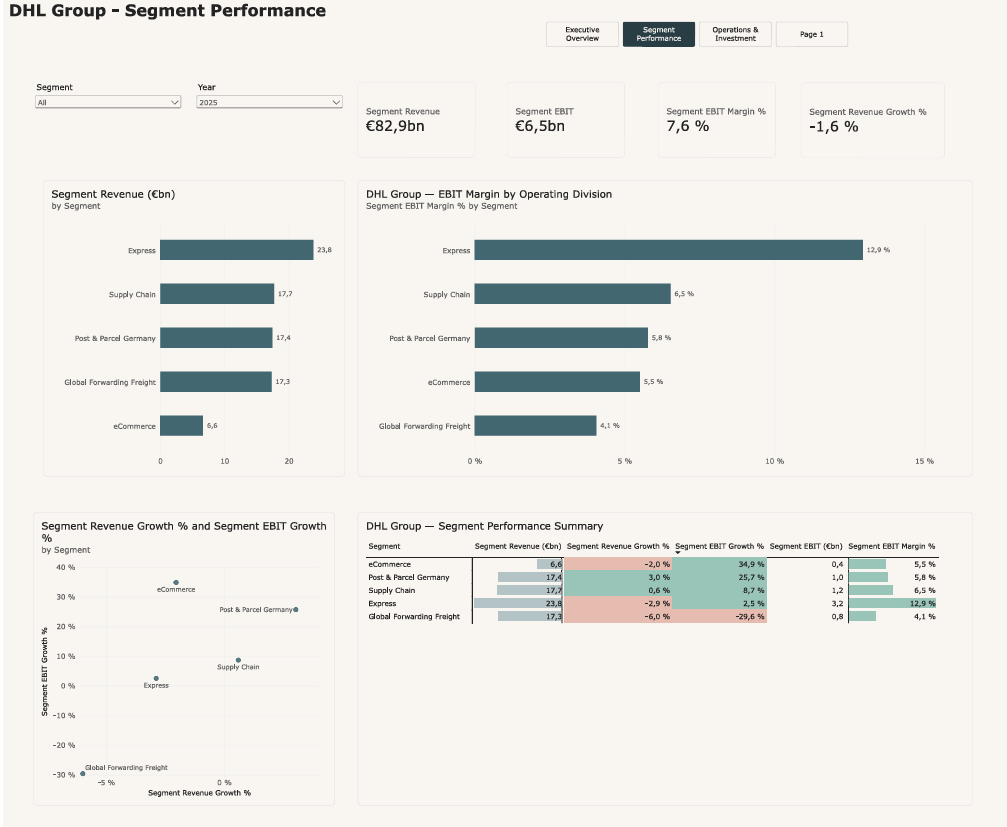

The page's visual inventory and layout, read from the dashboard file:
{"tool":"powerbi","page":{"name":"Segment Performance","canvas":[2000,1650],"ordinal":1},"visuals":[{"type":"textbox","box":[10,0,810,55],"z":0},{"type":"slicer","title":"Operating Division","fields":{"Values":["DimSegment.Segment"]},"box":[56.7,163.3,301.7,96.7],"z":1000},{"type":"cardVisual","fields":{"Data":["DimSegment.Segment Revenue (€bn)"]},"box":[703.3,163.3,234,150],"z":2000},{"type":"cardVisual","fields":{"Data":["DimSegment.Segment EBIT (€bn)"]},"box":[1000,163.3,234,150],"z":3000},{"type":"cardVisual","fields":{"Data":["DimSegment.Segment EBIT Margin %"]},"box":[1300,163.3,234,150],"z":4000},{"type":"cardVisual","fields":{"Data":["DimSegment.Segment Revenue Growth %"]},"box":[1584,164,286,150],"z":5000},{"type":"clusteredBarChart","fields":{"Category":["DimSegment.Segment"],"Y":["DimSegment.Segment Revenue (€bn)"]},"box":[77.5,357.5,600,590],"z":6000},{"type":"clusteredBarChart","title":"DHL Group — EBIT Margin by Operating Division","fields":{"Category":["DimSegment.Segment"],"Y":["DimSegment.Segment EBIT Margin %"]},"box":[702.5,357.5,1222.5,590],"z":7000},{"type":"scatterChart","fields":{"Category":["DimSegment.Segment"],"X":["DimSegment.Segment Revenue Growth %"],"Y":["DimSegment.Segment EBIT Growth %"]},"box":[58,1018,600,584],"z":8000},{"type":"pivotTable","title":"DHL Group — Segment Performance Summary","fields":{"Rows":["DimSegment.Segment"],"Values":["DimSegment.Segment Revenue (€bn)","DimSegment.Segment Revenue Growth %","DimSegment.Segment EBIT Growth %","DimSegment.Segment EBIT (€bn)","DimSegment.Segment EBIT Margin %"]},"box":[703,1018,1223,584],"z":9000},{"type":"slicer","title":"Operating Division","fields":{"Values":["DimYear.Year"]},"box":[377.5,162.5,301.7,96.7],"z":10000},{"type":"pageNavigator","box":[1077.5,42.5,600,50],"z":11000}]}

Visuals, with their boxes in screenshot pixels (x1, y1, x2, y2), scaled from the page's 2000x1650 canvas onto the 1007x827 screenshot:
textbox: l=5, t=0, r=413, b=28
"Operating Division" slicer: l=29, t=82, r=180, b=130
cardVisual - DimSegment.Segment Revenue (€bn): l=354, t=82, r=472, b=157
cardVisual - DimSegment.Segment EBIT (€bn): l=503, t=82, r=621, b=157
cardVisual - DimSegment.Segment EBIT Margin %: l=655, t=82, r=772, b=157
cardVisual - DimSegment.Segment Revenue Growth %: l=798, t=82, r=942, b=157
clusteredBarChart - DimSegment.Segment x DimSegment.Segment Revenue (€bn): l=39, t=179, r=341, b=475
"DHL Group — EBIT Margin by Operating Division" clusteredBarChart: l=354, t=179, r=969, b=475
scatterChart - DimSegment.Segment x DimSegment.Segment Revenue Growth %: l=29, t=510, r=331, b=803
"DHL Group — Segment Performance Summary" pivotTable: l=354, t=510, r=970, b=803
"Operating Division" slicer: l=190, t=81, r=342, b=130
pageNavigator: l=543, t=21, r=845, b=46
